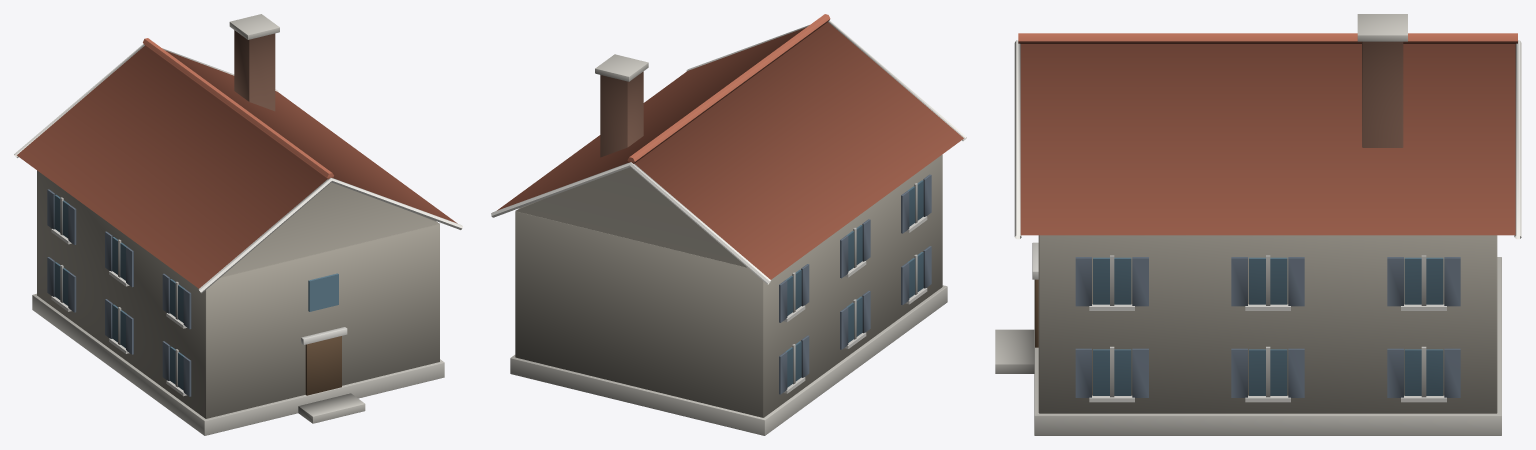
File: house_a.glb
The picture shows the model from 3 angles, left to right: view 1: azimuth 30°, elevation 25°; view 2: azimuth 150°, elevation 25°; view 3: azimuth 270°, elevation 25°; orthographic projection. The views are drawn at different scales.
Visible parts, largest first — view 1: boat_plaster, boat_tile, boat_stone2, boat_trim, boat_tile2, boat_window, boat_chimney, boat_door; view 2: boat_plaster, boat_tile, boat_stone2, boat_tile2, boat_trim, boat_window, boat_chimney; view 3: boat_tile, boat_plaster, boat_stone2, boat_tile2, boat_window, boat_trim, boat_chimney.
Boxes of the visible parts, bbox=[...] form: boat_plaster: bbox=[37, 170, 439, 418]; boat_tile: bbox=[17, 38, 457, 288]; boat_stone2: bbox=[32, 14, 444, 435]; boat_trim: bbox=[14, 44, 462, 396]; boat_tile2: bbox=[47, 189, 191, 396]; boat_window: bbox=[54, 194, 338, 390]; boat_chimney: bbox=[234, 30, 275, 111]; boat_door: bbox=[305, 336, 341, 395]; boat_plaster: bbox=[515, 154, 942, 417]; boat_tile: bbox=[497, 14, 963, 279]; boat_stone2: bbox=[510, 54, 947, 435]; boat_tile2: bbox=[779, 174, 931, 394]; boat_trim: bbox=[491, 20, 966, 393]; boat_window: bbox=[786, 180, 923, 387]; boat_chimney: bbox=[600, 71, 643, 157]; boat_tile: bbox=[1018, 33, 1517, 235]; boat_plaster: bbox=[1038, 235, 1497, 413]; boat_stone2: bbox=[995, 14, 1501, 435]; boat_tile2: bbox=[1075, 257, 1460, 397]; boat_window: bbox=[1093, 257, 1443, 395]; boat_trim: bbox=[1014, 40, 1521, 402]; boat_chimney: bbox=[1362, 41, 1403, 147].
Bounding box in the file's own units: 8.97 × 8.93 × 11.48.
